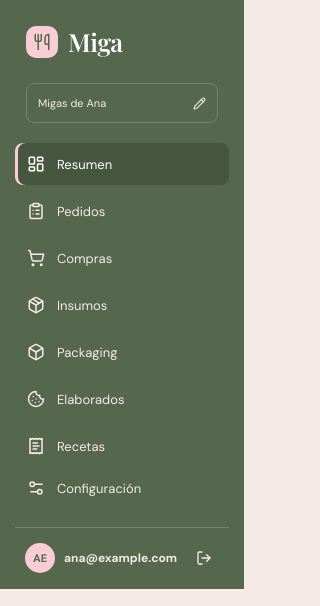
Test: Signed-in user in the sidebar › shows the business name and renames it in place
Click the button named "Cambiar el nombre: Migas de Ana". click: (122, 103)
box: [26,83,218,123]
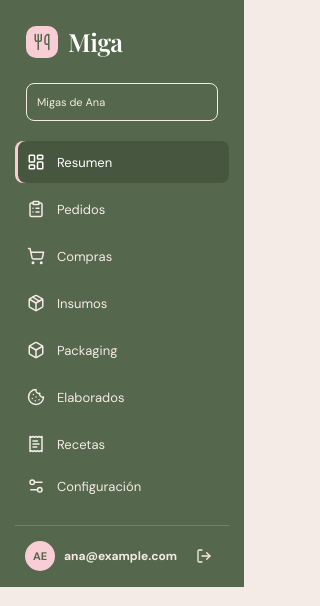
Now the field named "Nombre del emprendimiento" holds "Migas de Ana"
Replace the text in the field named "Nombre del emprendimiento" with "  Dulce Miga  ". click: (122, 102)
box: [26,83,218,121]
Then press Enter
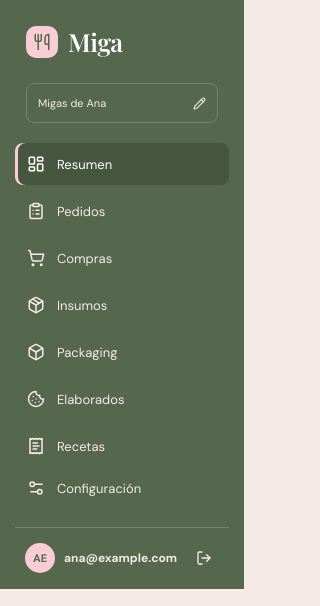
Now the field is gone
